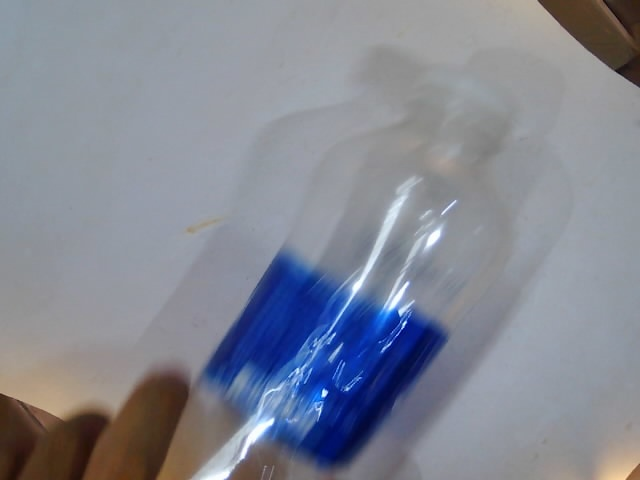plastic: (75, 59, 572, 480)
